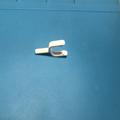u-shape: (34, 39, 69, 58)
